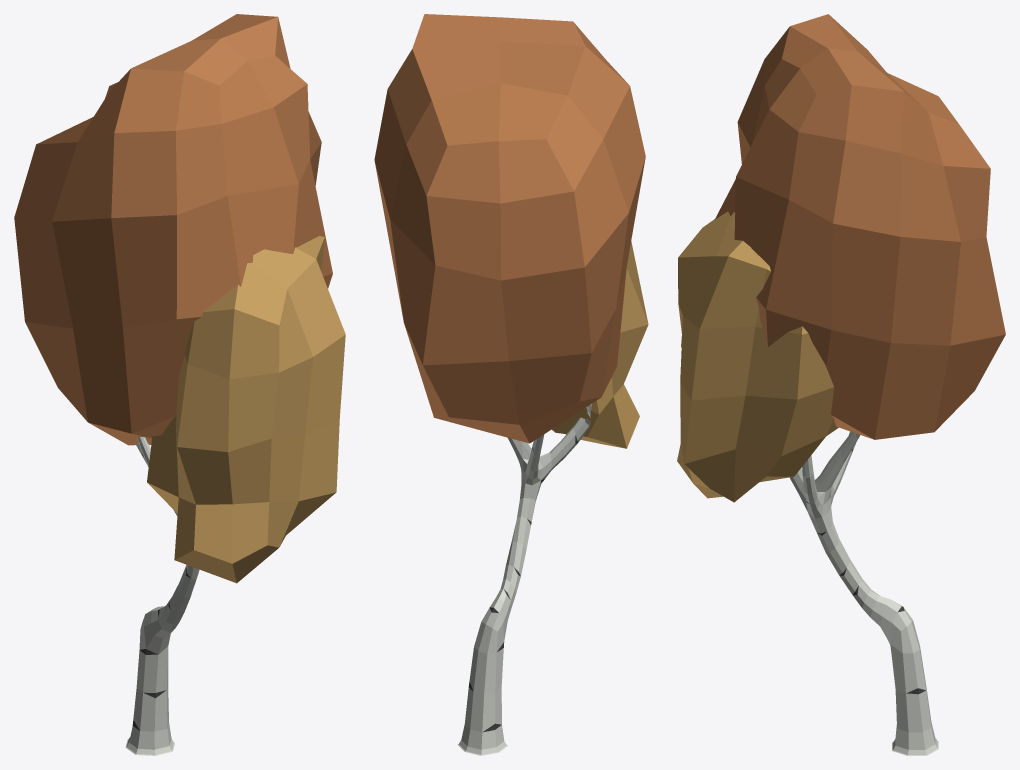
Rendered from birchtree_autumn_2.glb.
The picture shows the model from 3 angles, left to right: view 1: azimuth 30°, elevation 25°; view 2: azimuth 150°, elevation 25°; view 3: azimuth 270°, elevation 25°; orthographic projection. The views are drawn at different scales.
Parts seen in each view (by area): view 1: BirchTree_Autumn_2; view 2: BirchTree_Autumn_2; view 3: BirchTree_Autumn_2.
Boxes of the visible parts, x1,y1,x2,y2 form: BirchTree_Autumn_2: [14, 14, 345, 755]; BirchTree_Autumn_2: [374, 14, 648, 755]; BirchTree_Autumn_2: [677, 14, 1005, 755].
Bounding box in the file's own units: 3.53 × 9.67 × 4.06.
